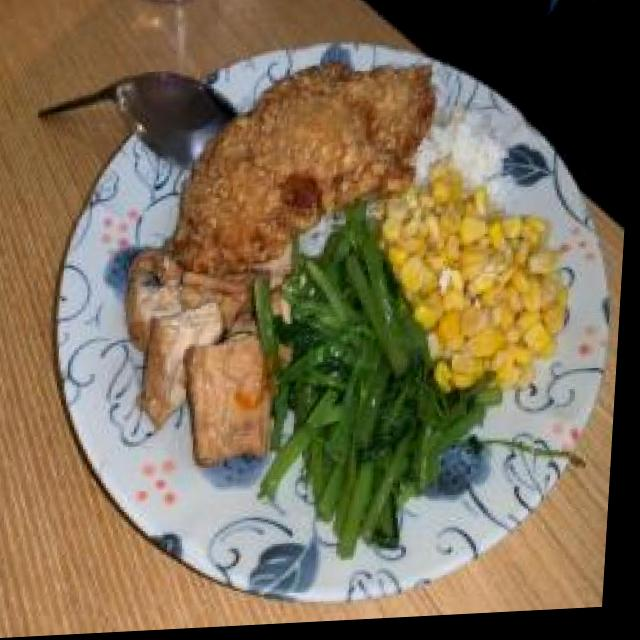fried_chicken: (180, 65, 439, 265)
rice: (418, 114, 515, 196)
water_spinach: (280, 224, 459, 526)
